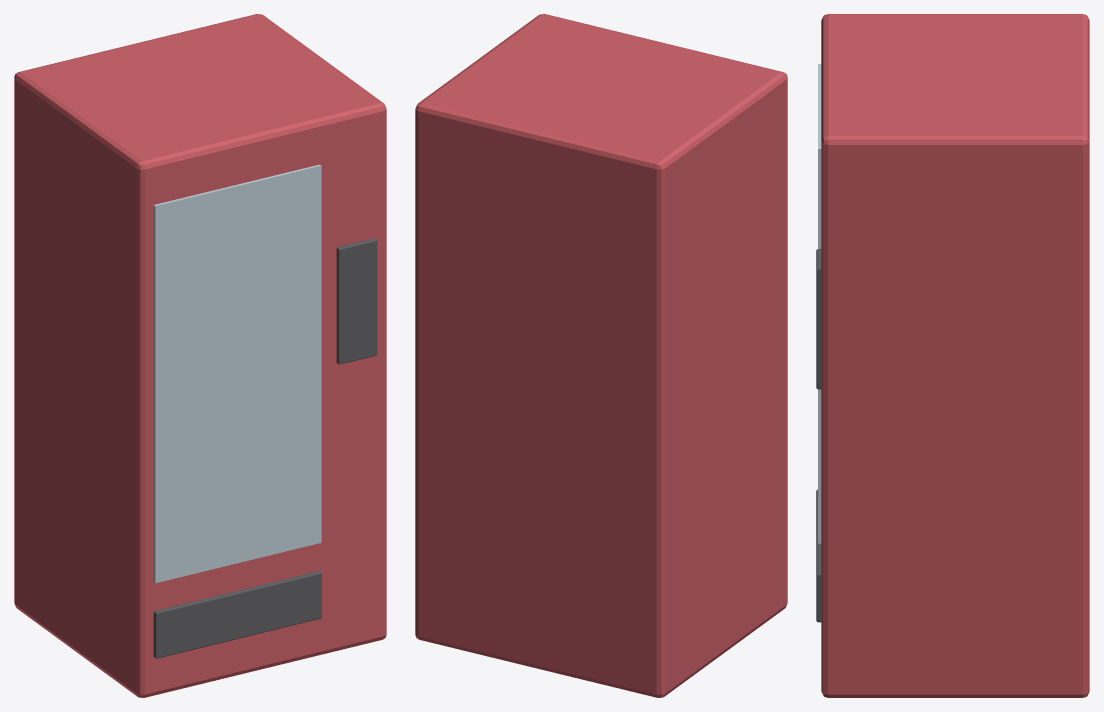
Rendered from vending_machine.fbx.
3 views of the same model, side by side, from view 1: azimuth 30°, elevation 25°; view 2: azimuth 150°, elevation 25°; view 3: azimuth 270°, elevation 25° (orthographic). The views are drawn at different scales.
Visible parts, largest first — view 1: vending_machine; view 2: vending_machine; view 3: vending_machine.
Part boxes in pixels (box(x1,y1,x2,y2)): vending_machine: box(14, 14, 386, 697); vending_machine: box(415, 14, 787, 697); vending_machine: box(816, 14, 1089, 697).
Bounding box in the file's own units: 0.9 × 1.85 × 0.815.
